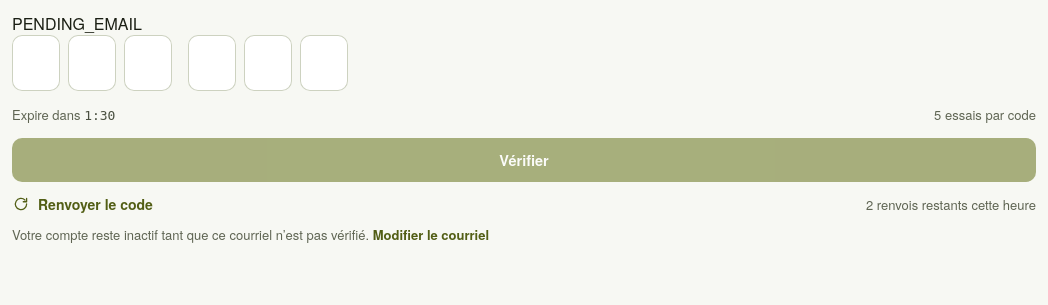
Scenario: AUTH-14, AUTH-17 : vérification du courriel › AUTH-14, AUTH-16 : un code collé remplit les cases ; la vérification rend le compte actif
This screenshot has width=1048, height=305.
Type "503271" into the field named "Code de vérification — 1/6" at (36, 63), box [12,35,60,91]
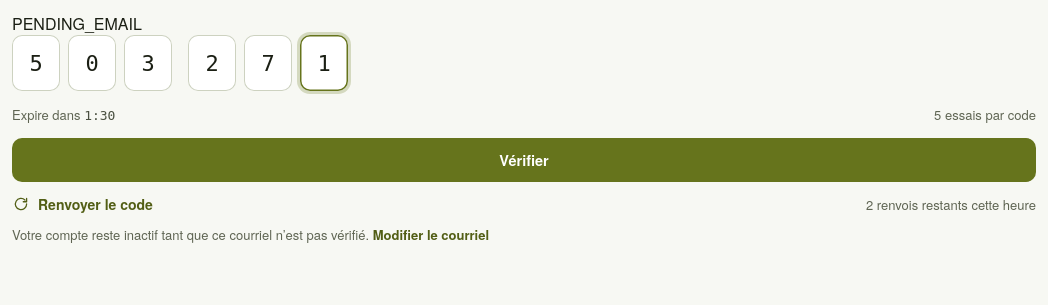
Click the button "Vérifier" at (524, 160), box [12,138,1036,182]
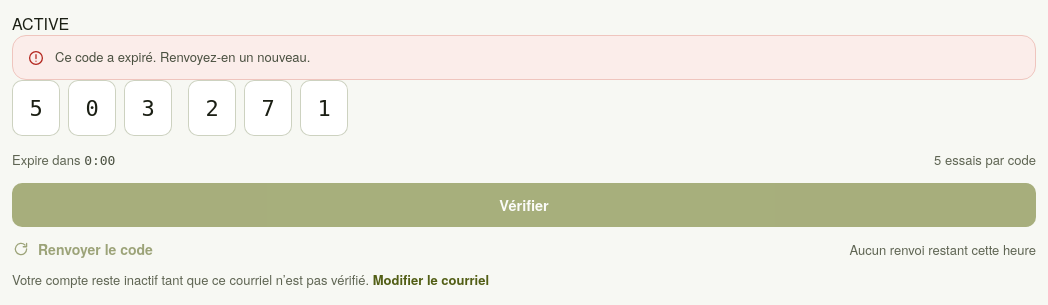
expect the text "ACTIVE" is shown: met, box [12,12,69,35]
